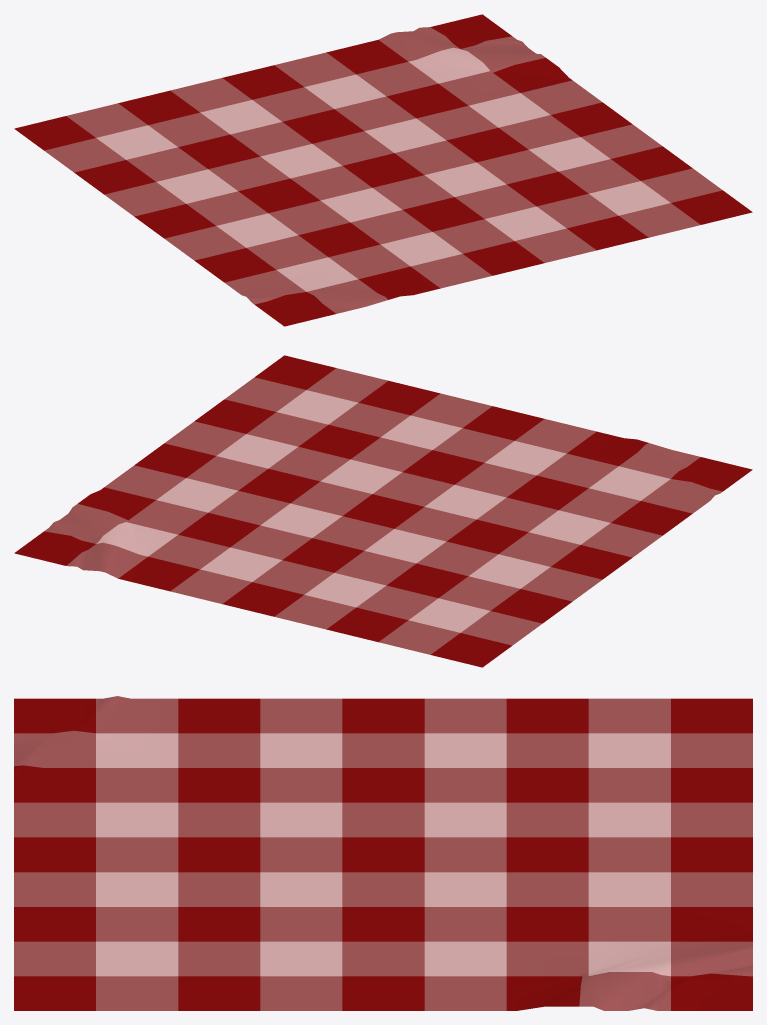
File: picnicblanket_alt.fbx
3 views of the same model, one above another, from view 1: azimuth 30°, elevation 25°; view 2: azimuth 150°, elevation 25°; view 3: azimuth 270°, elevation 25° (orthographic). The views are drawn at different scales.
Visible parts, largest first — view 1: blanket; view 2: blanket; view 3: blanket.
Boxes of the visible parts, x1,y1,x2,y2 form: blanket: (14,14,752,326); blanket: (14,355,752,667); blanket: (14,696,752,1010).
Bounding box in the file's own units: 2906 × 18.21 × 2906.
